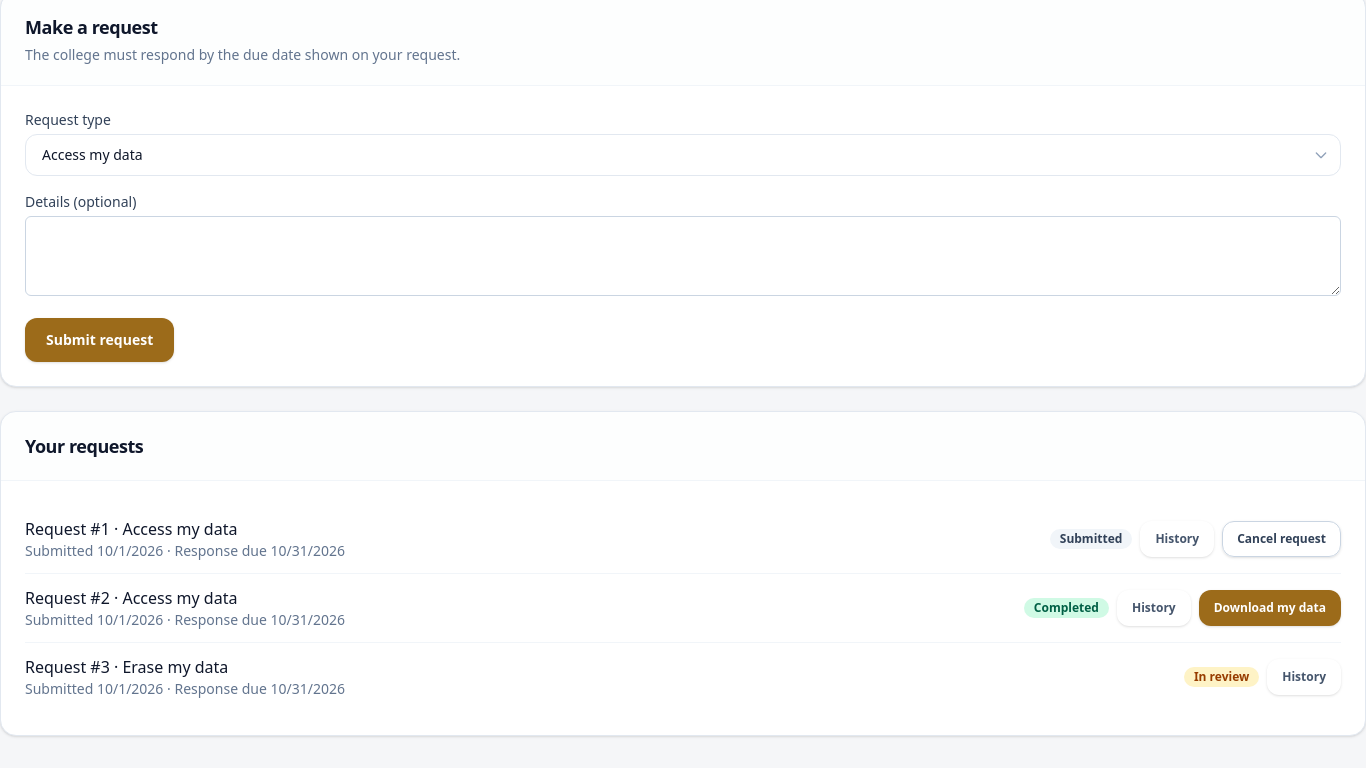
Test case: MyPrivacyPage › labels history events with the friendly status
(page scrolled)
Click the button "History" next to "In review" at (1304, 677), box [1267,659,1341,695]
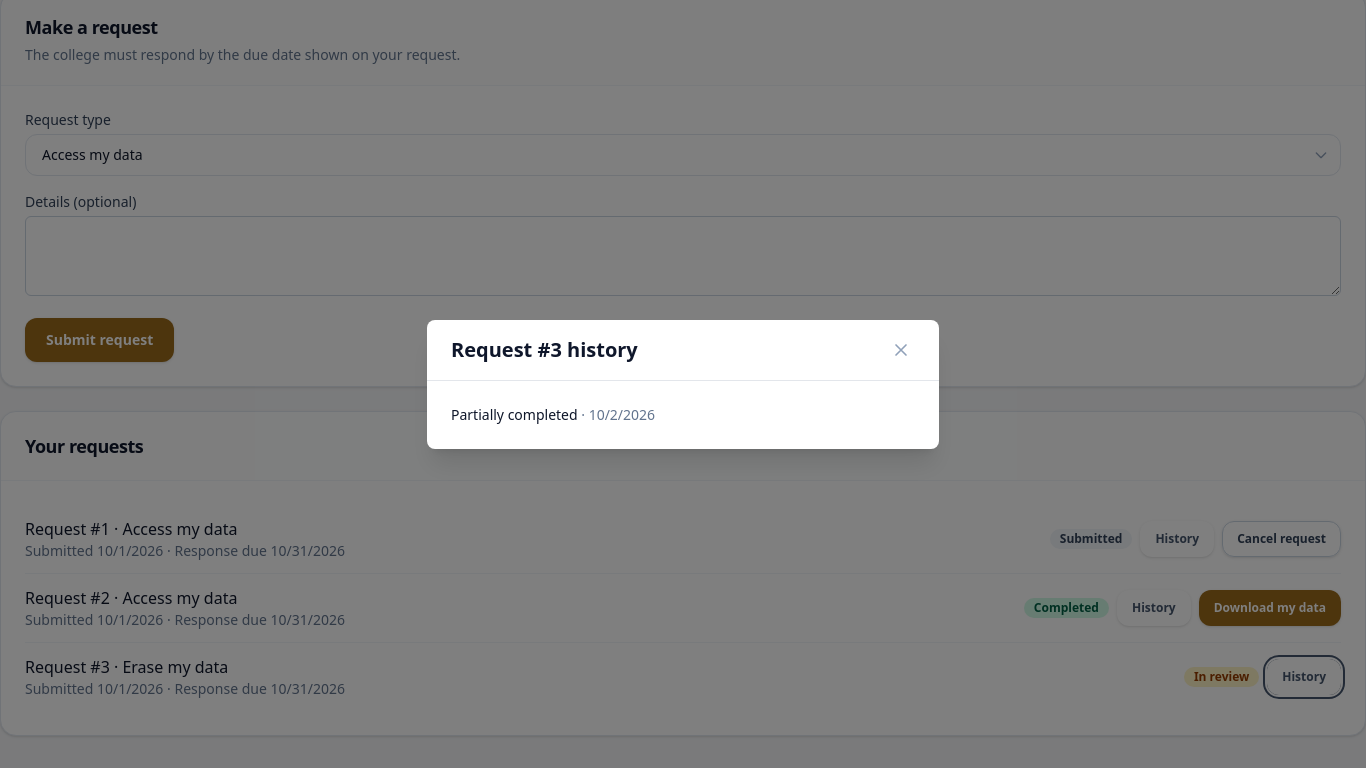
Check: the text "Partially completed" is shown, box [451,404,578,424]
